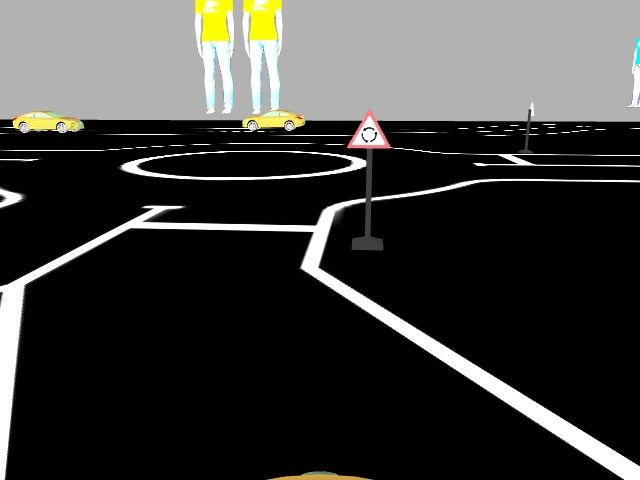Roundabout: (346, 108, 391, 148)
